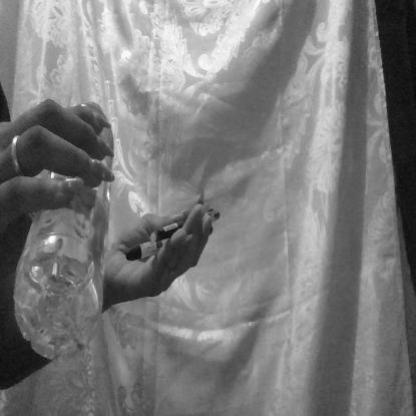Plastic Bottle: (3, 94, 116, 384)
